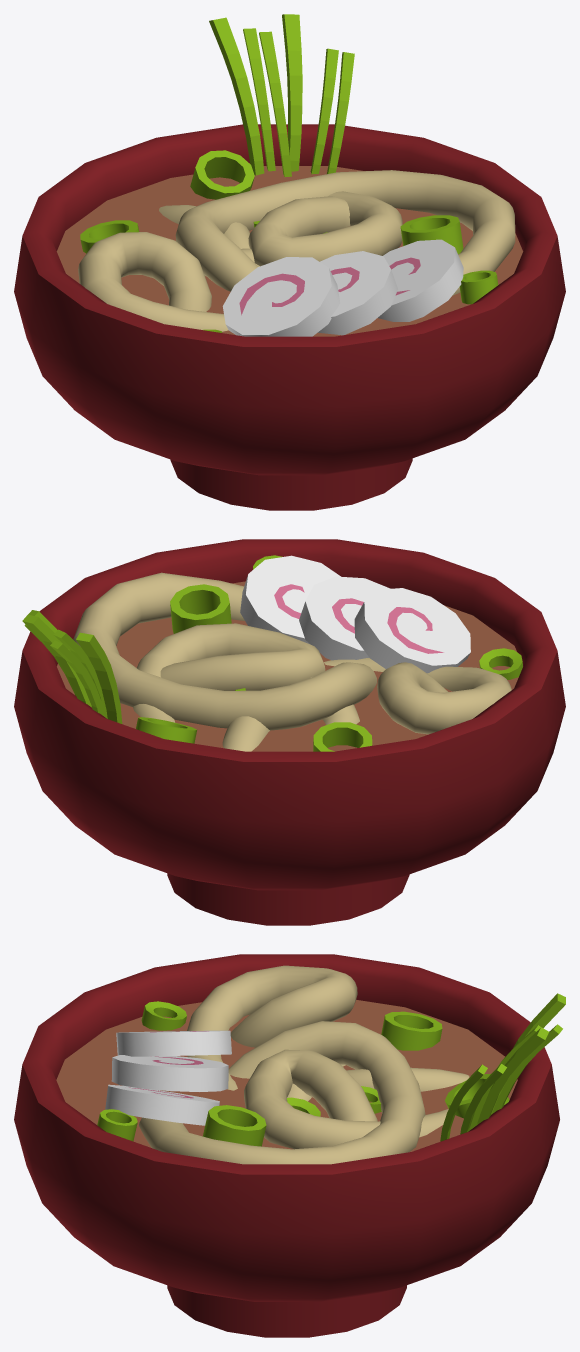
The model's file is Udon.glb.
3 renders of one model, top to bottom at view 1: azimuth 30°, elevation 25°; view 2: azimuth 150°, elevation 25°; view 3: azimuth 270°, elevation 25°, orthographic.
Visible parts, largest first — view 1: Food_Udon; view 2: Food_Udon; view 3: Food_Udon.
Part boxes in pixels (x1,y1,x2,y2): Food_Udon: (14, 14, 565, 510); Food_Udon: (14, 539, 565, 925); Food_Udon: (14, 954, 565, 1337).
Size of the model in its own units: 0.973 by 0.6441 by 0.9986.
Materials: 1 (1 with a texture image).
